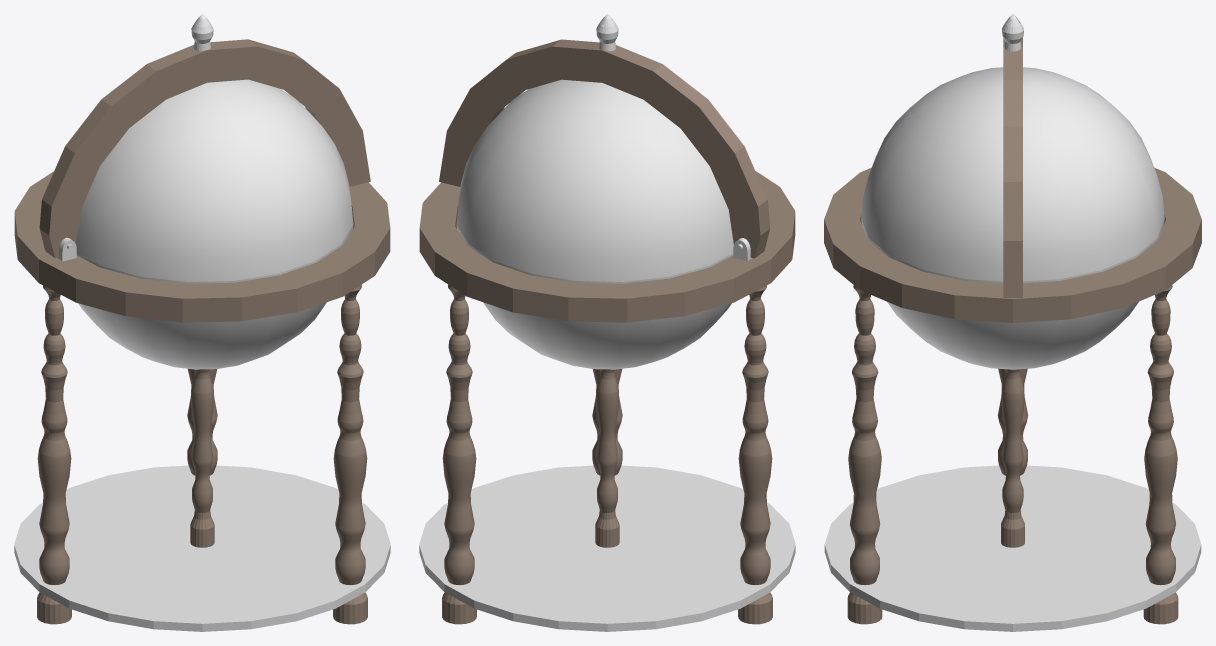
File: Globe New.fbx
3 renders of one model, left to right at view 1: azimuth 30°, elevation 25°; view 2: azimuth 150°, elevation 25°; view 3: azimuth 270°, elevation 25°, orthographic.
Visible parts, largest first — view 1: pDisc1, UpperGlobe, LowerHolder, UpperHolder, LowerGlobe, Pillar1, Pillar2, Pillar, Pillar3, Top; view 2: pDisc1, UpperGlobe, LowerHolder, UpperHolder, LowerGlobe, Pillar1, Pillar3, Pillar, Pillar2, Top; view 3: UpperGlobe, pDisc1, LowerHolder, LowerGlobe, Pillar2, Pillar3, UpperHolder, Pillar, Pillar1, Top.
Part boxes in pixels (x1,y1,x2,y2): pDisc1: (14, 465, 390, 631); UpperGlobe: (76, 79, 353, 281); LowerHolder: (14, 171, 390, 322); UpperHolder: (39, 39, 370, 258); LowerGlobe: (76, 225, 353, 369); Pillar1: (37, 285, 71, 624); Pillar2: (333, 284, 367, 624); Pillar: (190, 369, 214, 547); Pillar3: (187, 368, 217, 475); Top: (191, 14, 213, 51); pDisc1: (419, 465, 795, 631); UpperGlobe: (456, 79, 733, 281); LowerHolder: (419, 171, 795, 322); UpperHolder: (439, 39, 770, 258); LowerGlobe: (456, 225, 733, 369); Pillar1: (738, 285, 772, 624); Pillar3: (442, 284, 476, 624); Pillar: (595, 369, 619, 547); Pillar2: (592, 368, 622, 475); Top: (596, 14, 618, 51); UpperGlobe: (861, 67, 1164, 281); pDisc1: (824, 465, 1201, 631); LowerHolder: (824, 167, 1201, 322); LowerGlobe: (861, 219, 1164, 369); Pillar2: (847, 285, 882, 624); Pillar3: (1143, 285, 1178, 624); UpperHolder: (1003, 37, 1022, 297); Pillar: (1001, 369, 1024, 547); Pillar1: (997, 368, 1028, 475); Top: (1002, 14, 1023, 51).
Bounding box in the file's own units: 5.35 × 8.86 × 5.35.
